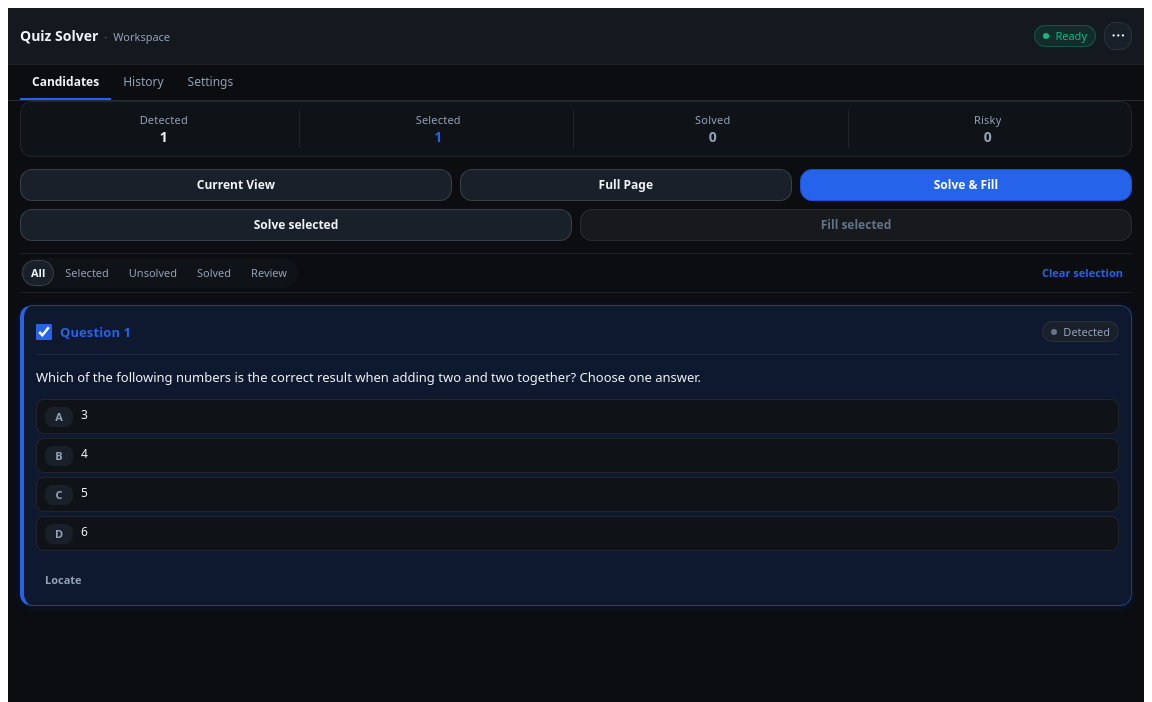
Test case: UI-04 real App/actions/bridge/hydration feedback wiring › RF01-FB03 Batch Fill success
Click the button "Solve selected" at {"x": 296, "y": 225}, box [20, 209, 572, 241]
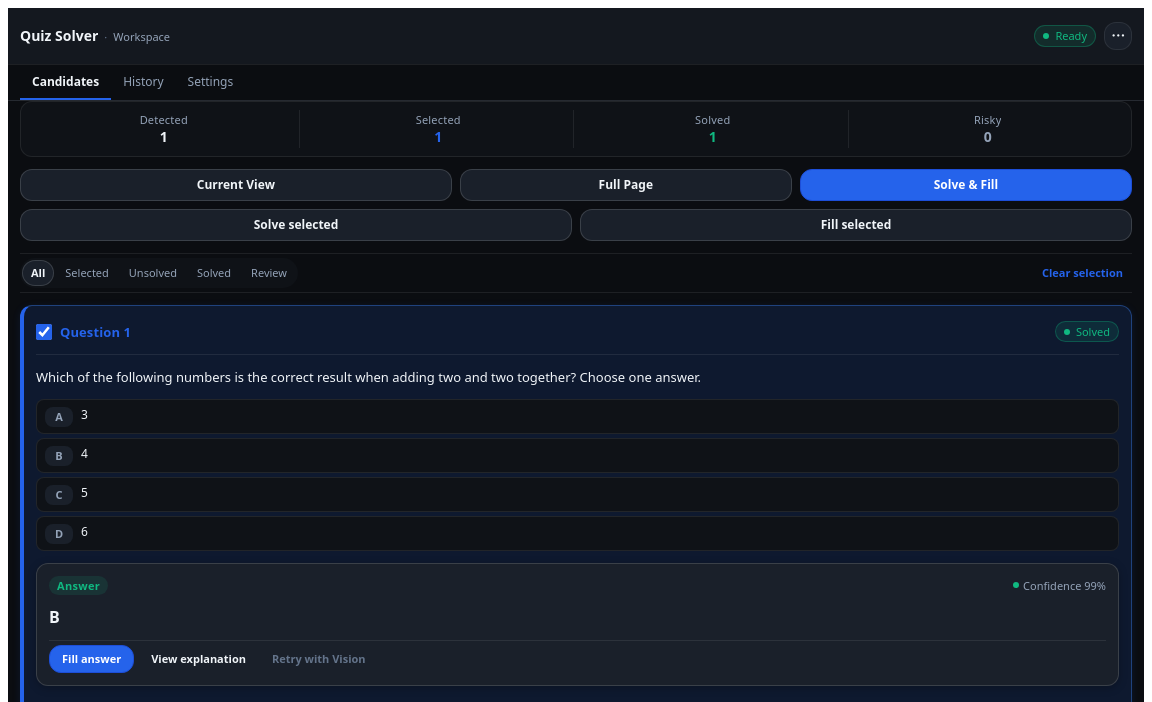
Expected: the button "Fill answer" is enabled, [49, 645, 134, 673]
Click the button "Fill selected" at {"x": 856, "y": 225}, box [580, 209, 1132, 241]
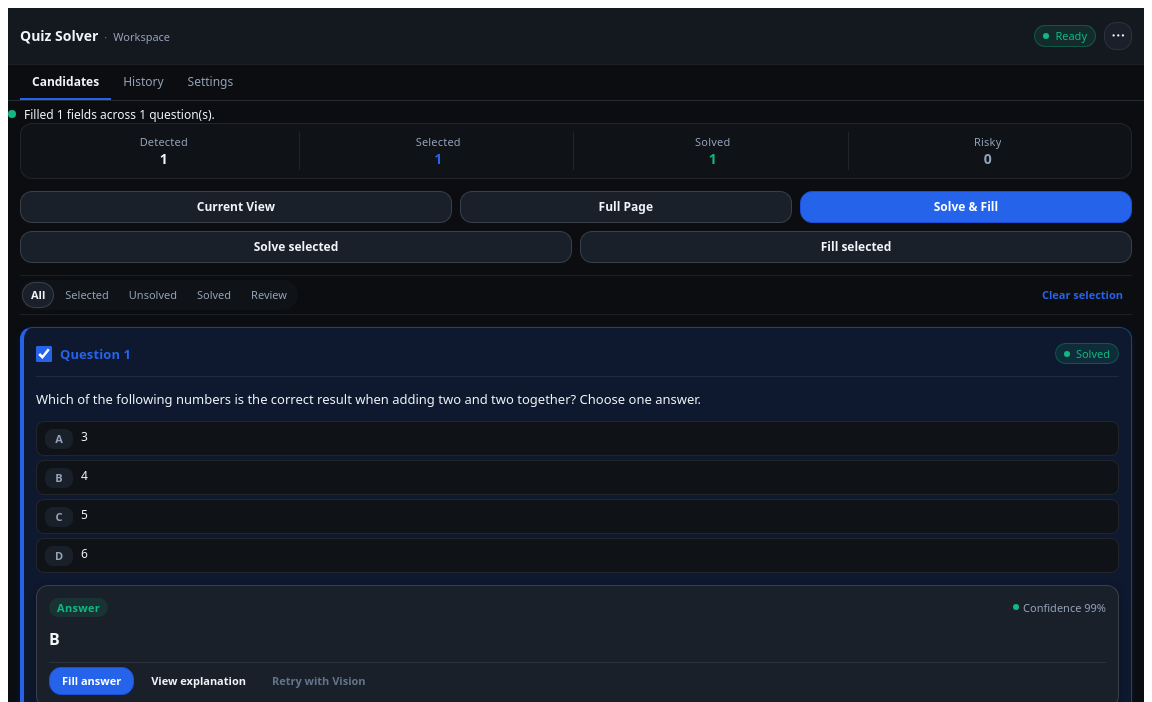
Expected: the element with test id "workspace-user-feedback" shows "Filled 1 fields across 1 question", [24, 106, 215, 122]
